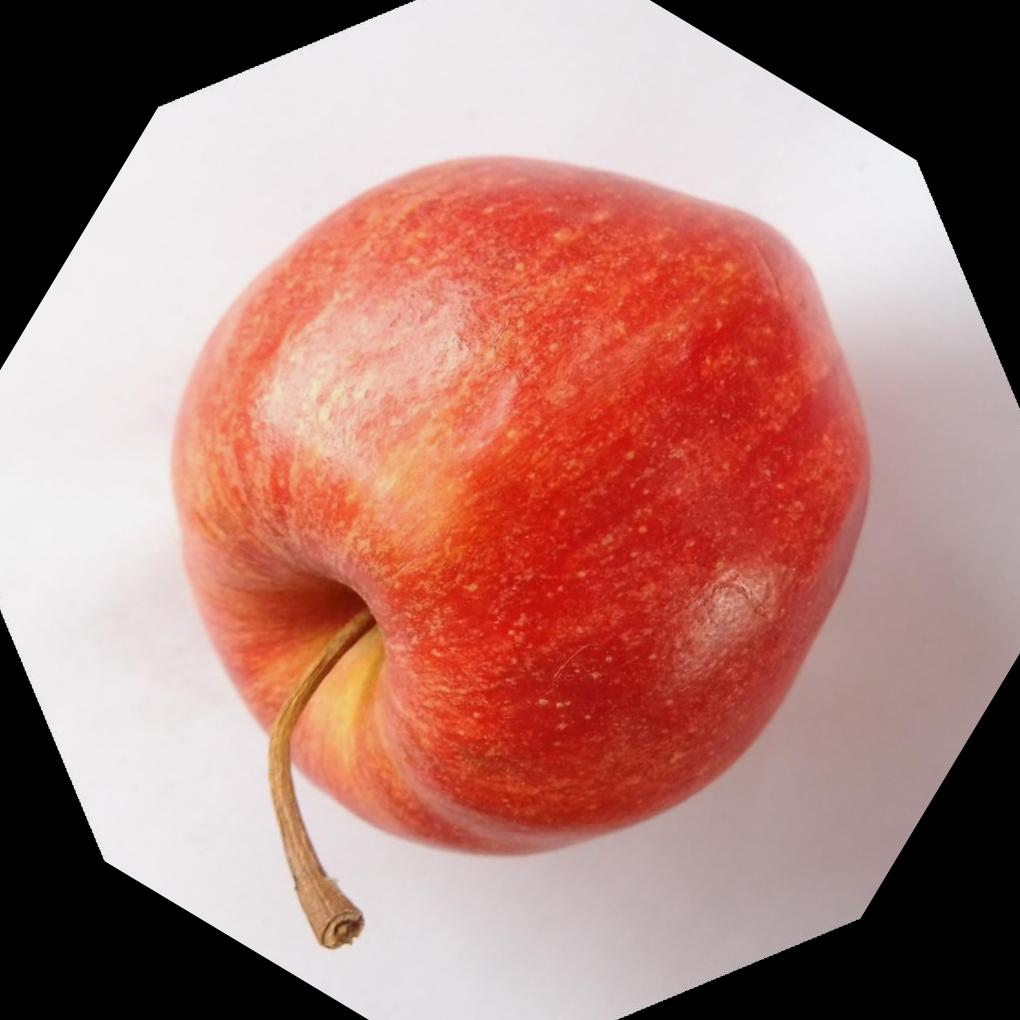FreshGuava: (168, 153, 875, 951)
